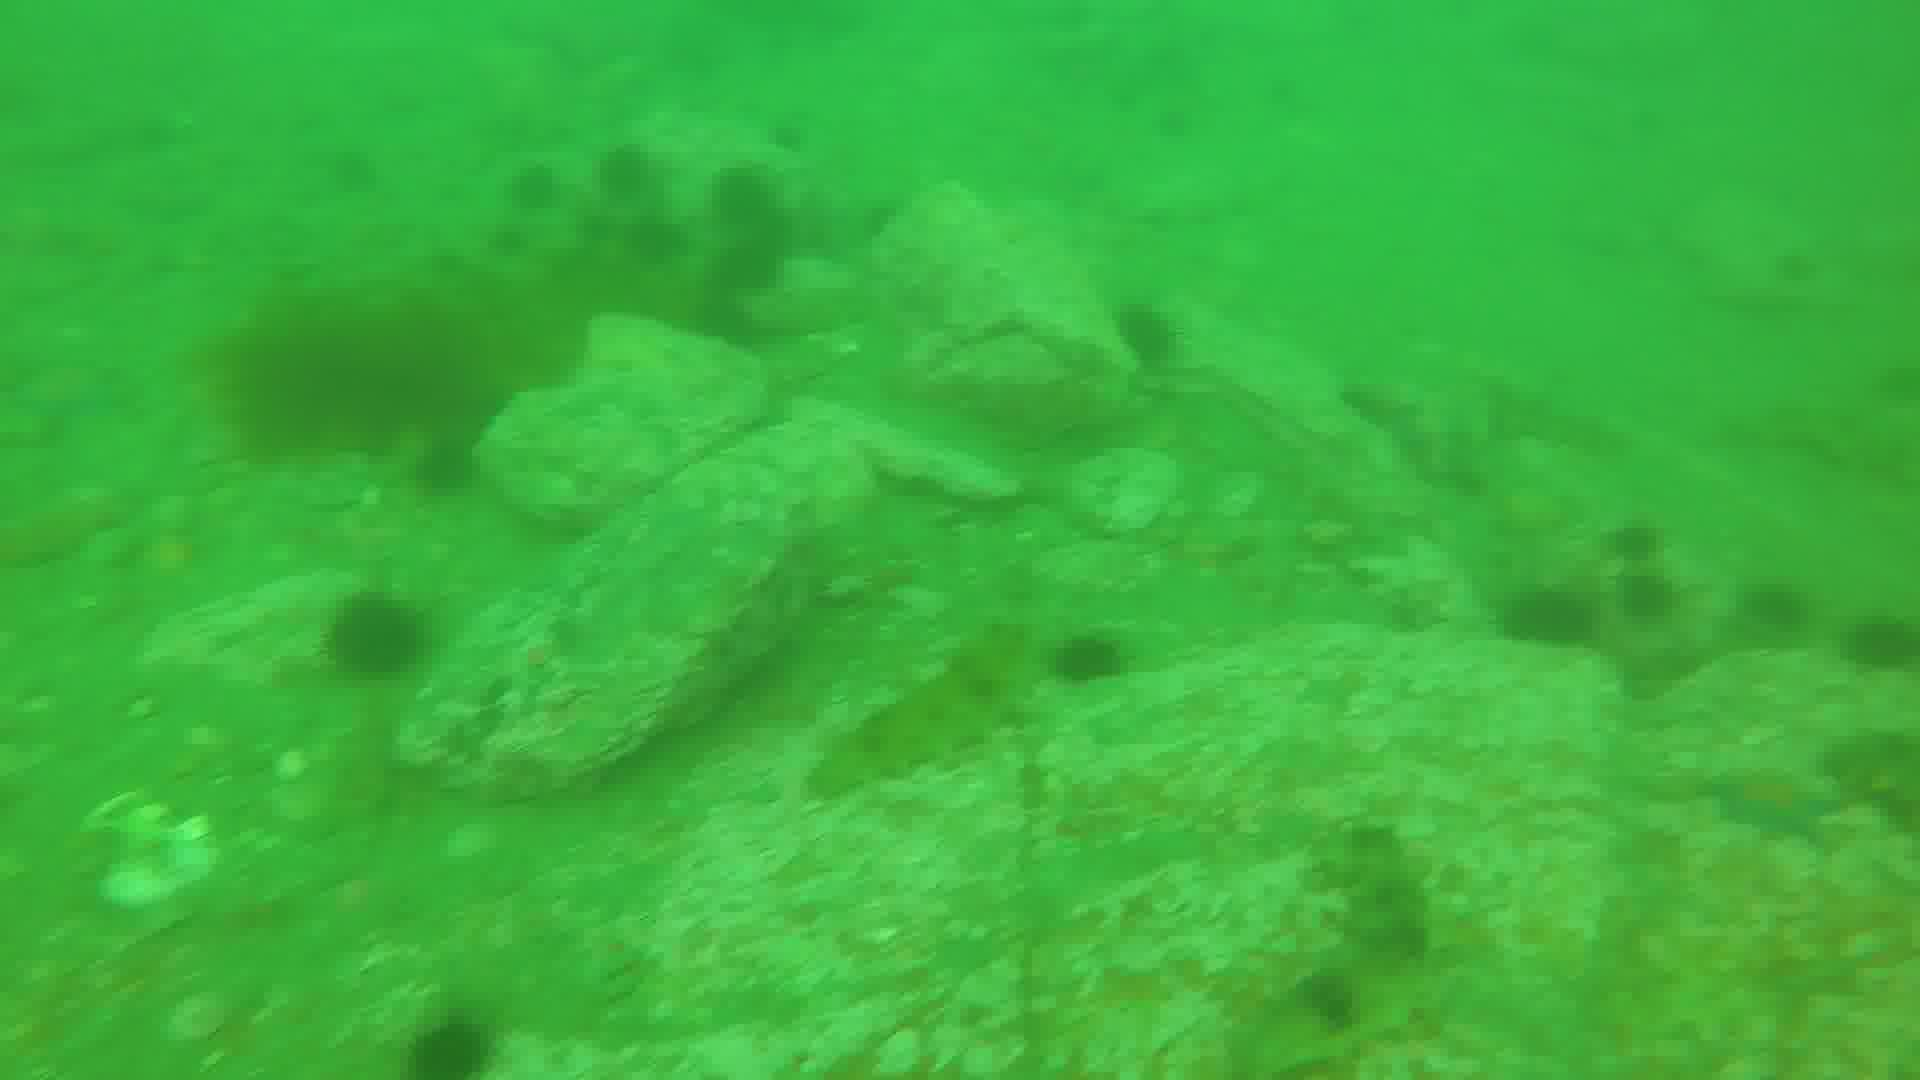echinus: (330, 589, 431, 675), (1509, 585, 1600, 650), (406, 1007, 483, 1080), (1114, 301, 1188, 375), (717, 232, 806, 289), (1847, 615, 1920, 680), (615, 207, 691, 266), (1739, 585, 1812, 647), (716, 171, 787, 233), (1046, 634, 1120, 684), (422, 427, 485, 485), (512, 162, 568, 216), (1611, 520, 1664, 574), (597, 144, 653, 190), (1629, 574, 1681, 618)
holothurian: (1245, 827, 1437, 1080), (810, 611, 1046, 802)
starfish: (1708, 766, 1847, 848)
